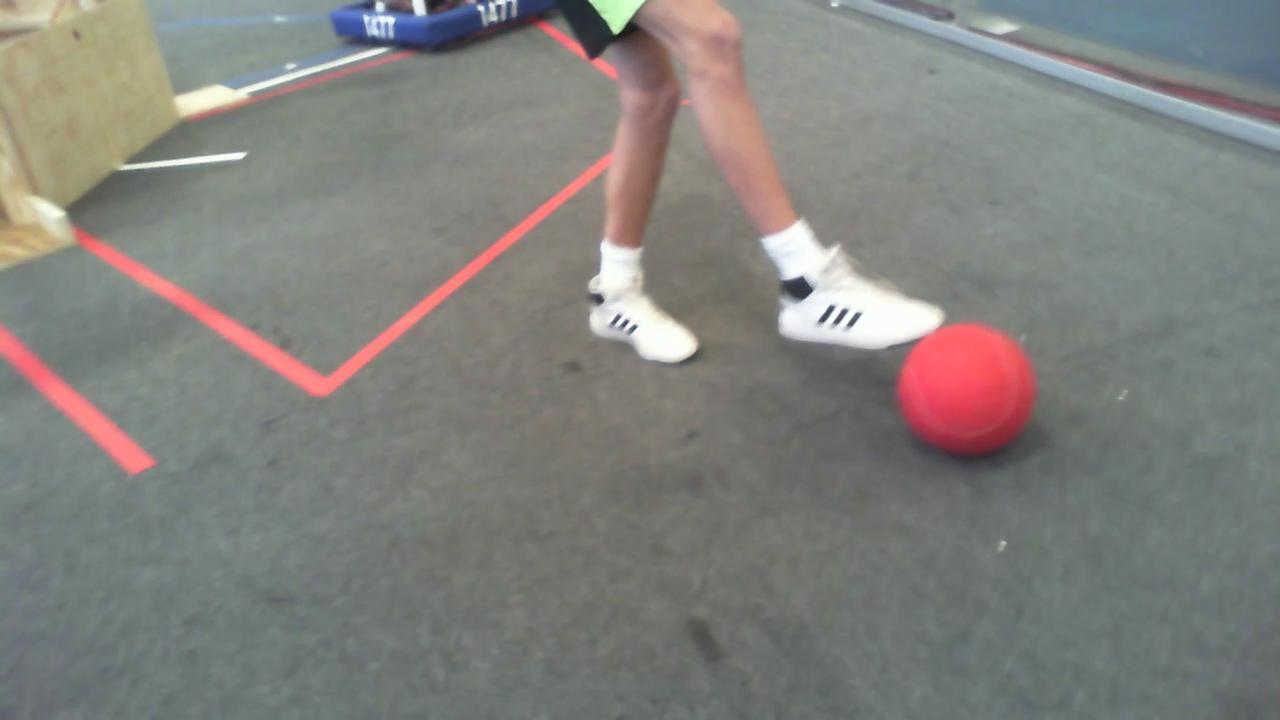robot: (328, 1, 555, 52)
